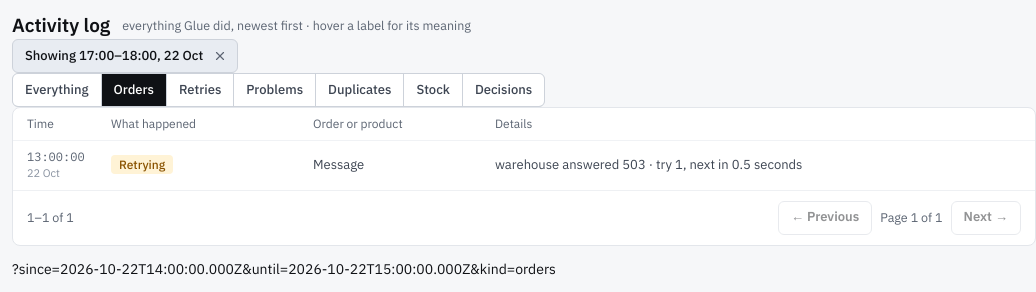
Test case: a chart bar link shows only its time window until the window is cleared
expect the text "Showing 17:00–18:00, 22 Oct" is shown: met, box x1=12 y1=39 x2=238 y2=73
Click the button named "Show the whole range" at (220, 56), box x1=207 y1=43 x2=233 y2=69
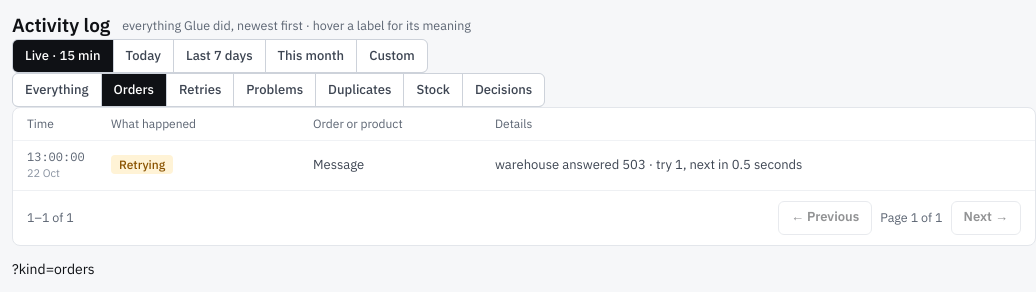
expect the element named "Time range" is shown: met, box x1=12 y1=39 x2=428 y2=73
